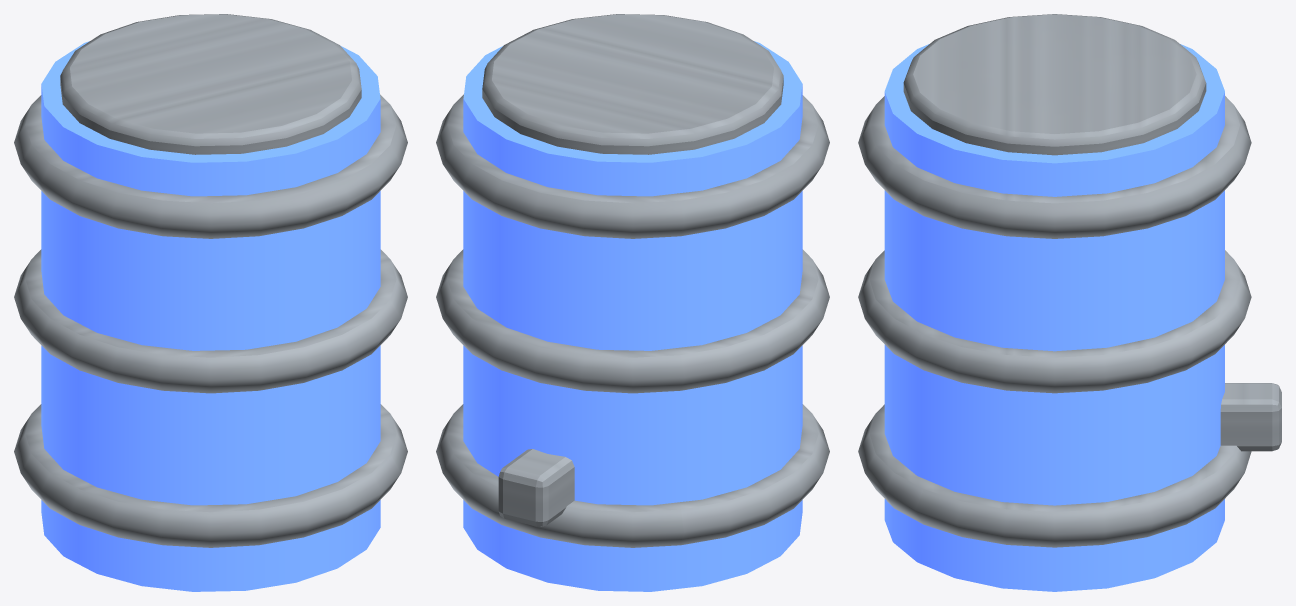
File: item_shield_keg.glb
3 renders of one model, left to right at view 1: azimuth 30°, elevation 25°; view 2: azimuth 150°, elevation 25°; view 3: azimuth 270°, elevation 25°, orthographic.
Parts seen in each view (by area): view 1: item_shield_keg; view 2: item_shield_keg; view 3: item_shield_keg.
Boxes of the visible parts, x1,y1,x2,y2 form: item_shield_keg: (14, 14, 407, 591); item_shield_keg: (436, 14, 829, 591); item_shield_keg: (858, 14, 1281, 591).
Size of the model in its own units: 0.208 by 0.26 by 0.224.
2 materials, 1 textured.
